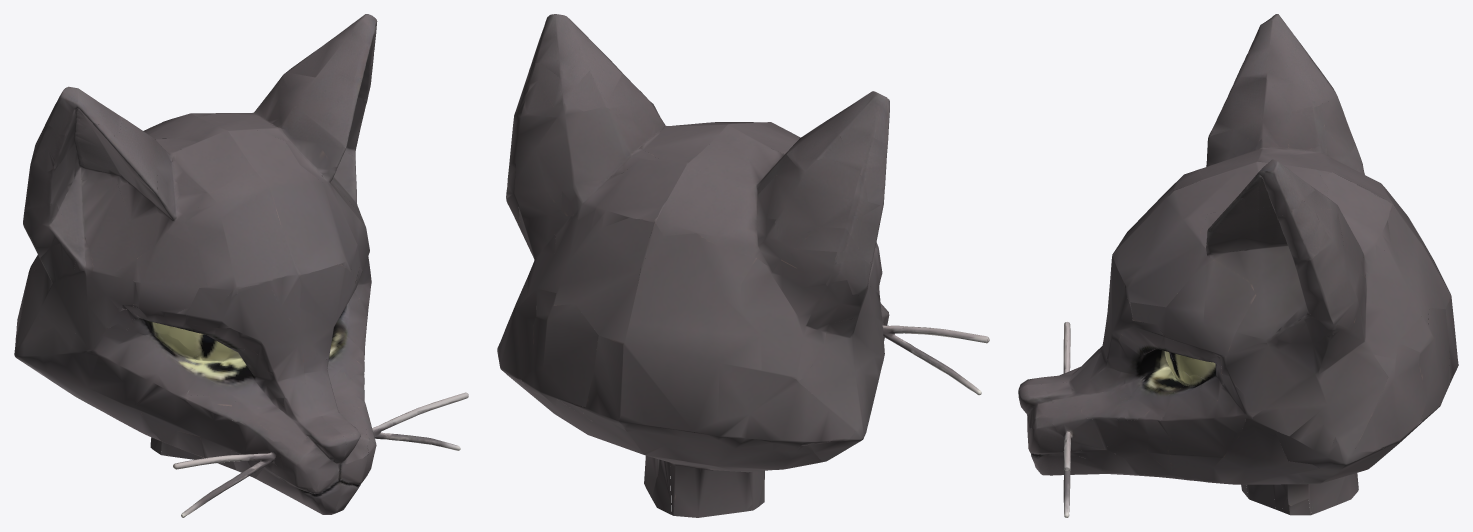
The model's file is cabeca_gata.glb.
3 views of the same model, side by side, from view 1: azimuth 30°, elevation 25°; view 2: azimuth 150°, elevation 25°; view 3: azimuth 270°, elevation 25° (orthographic). The views are drawn at different scales.
Visible parts, largest first — view 1: cabeca_gata; view 2: cabeca_gata; view 3: cabeca_gata.
Part boxes in pixels (bbox=[...]): cabeca_gata: bbox=[14, 14, 468, 517]; cabeca_gata: bbox=[497, 14, 989, 517]; cabeca_gata: bbox=[1018, 14, 1458, 517].
Bounding box in the file's own units: 0.324 × 0.3612 × 0.3584.
1 material, 1 textured.
